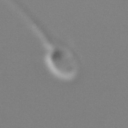normal: (3, 1, 56, 49)
